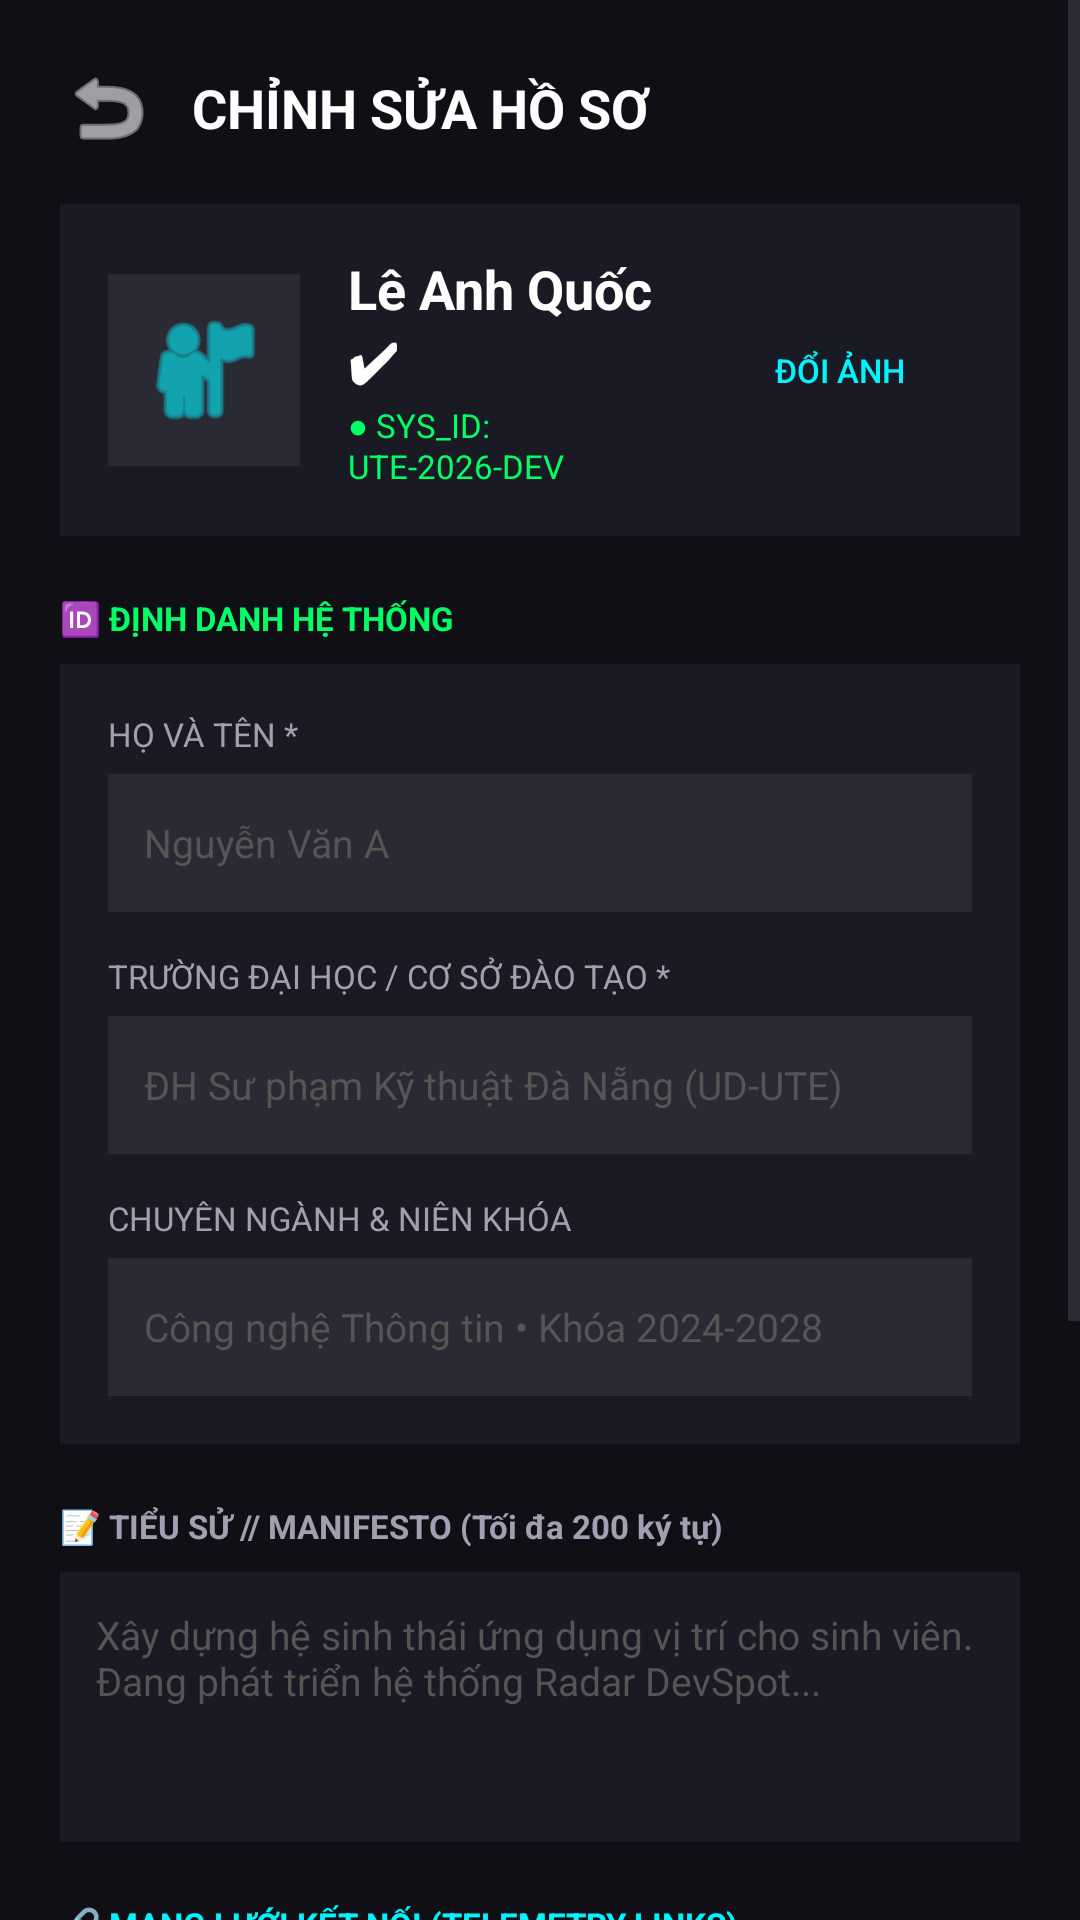

Screen size 1080x1920. Icon name, then its box in pixels as (x1, y1, x2, y2):
myplaces: (155, 320, 255, 420)
revert: (75, 77, 144, 140)
